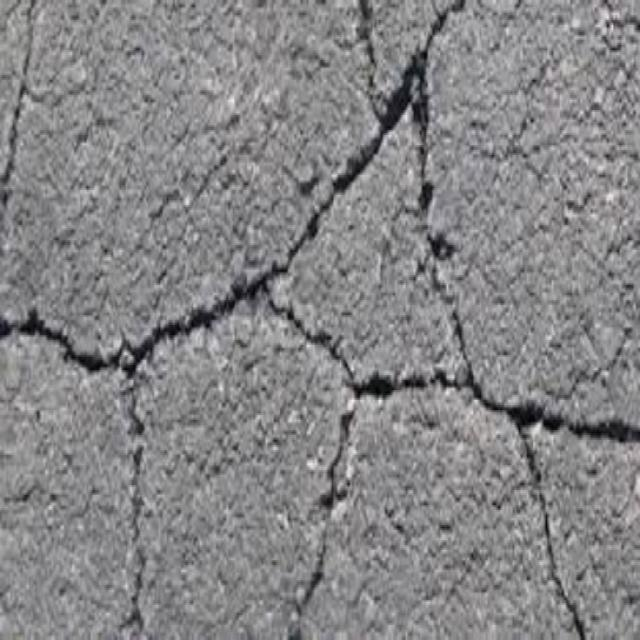crack: (2, 275, 260, 372), (353, 368, 639, 446), (281, 395, 362, 638), (356, 3, 473, 157), (515, 428, 590, 637), (262, 157, 374, 286), (414, 157, 474, 368), (1, 2, 41, 214), (262, 290, 352, 384), (119, 376, 147, 636)
